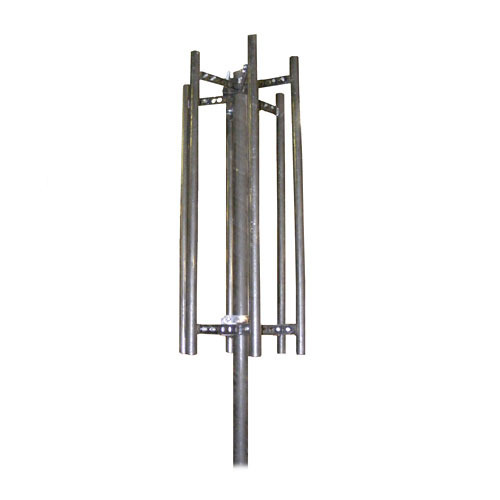sa: (222, 56, 268, 354)
